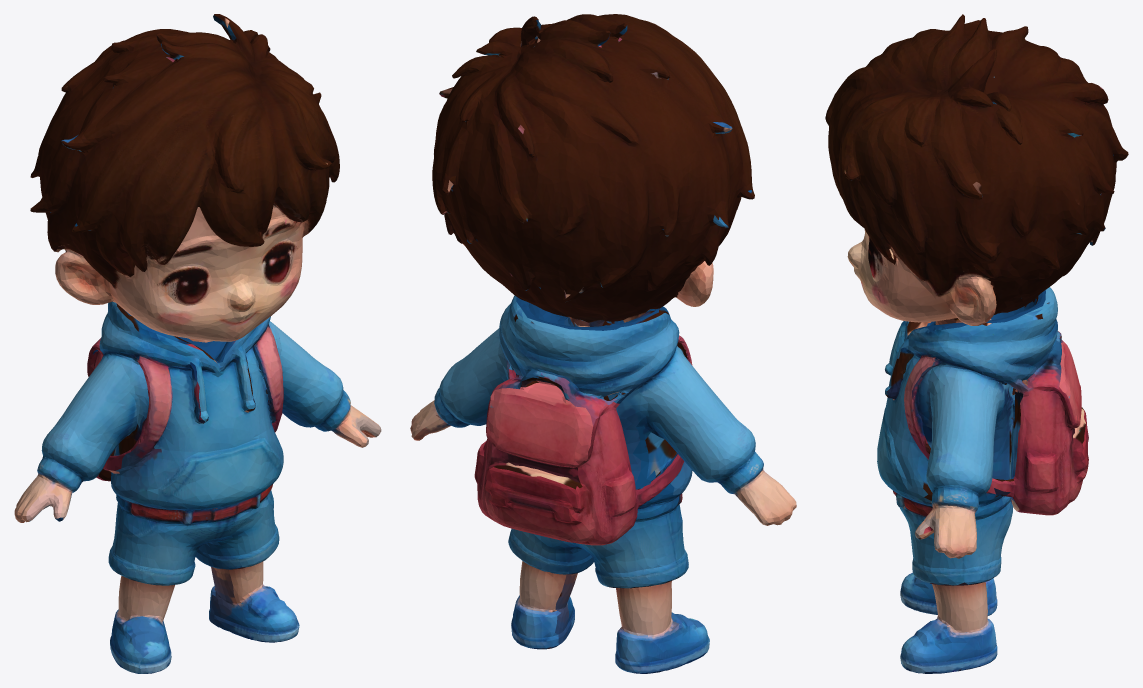
Rendered from boyS_s123_textured_00002_.glb.
3 views of the same model, side by side, from view 1: azimuth 30°, elevation 25°; view 2: azimuth 150°, elevation 25°; view 3: azimuth 270°, elevation 25° (orthographic). The views are drawn at different scales.
Visible parts, largest first — view 1: temp_mesh.ply; view 2: temp_mesh.ply; view 3: temp_mesh.ply.
Part boxes in pixels (x1,y1,x2,y2): temp_mesh.ply: [14, 14, 381, 673]; temp_mesh.ply: [410, 14, 796, 673]; temp_mesh.ply: [825, 14, 1128, 673].
Bounding box in the file's own units: 1.24 × 1.97 × 0.8969.
Materials: 1 (1 with a texture image).
